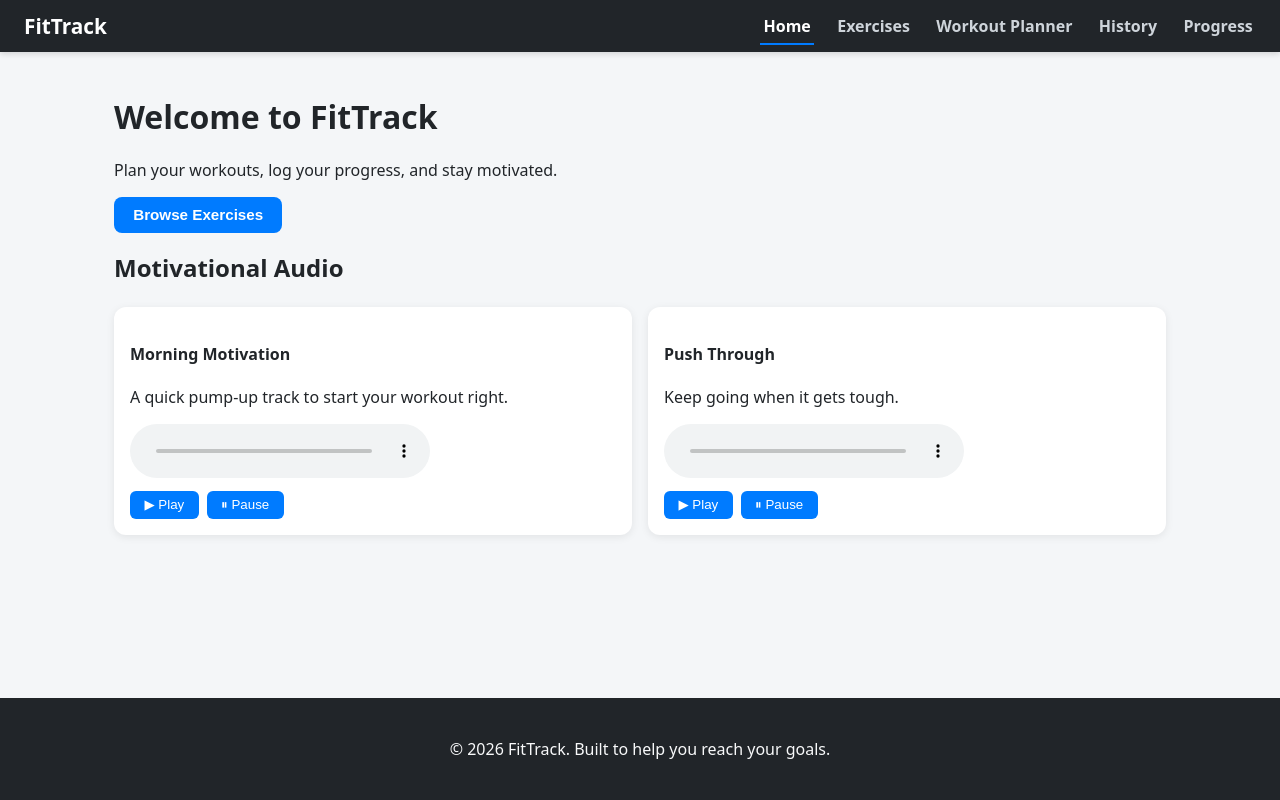
Test case: Navigation Integration › navigates to the workout planner page
Click the link "Workout Planner" at (1004, 26), box 936,15 -> 1072,37
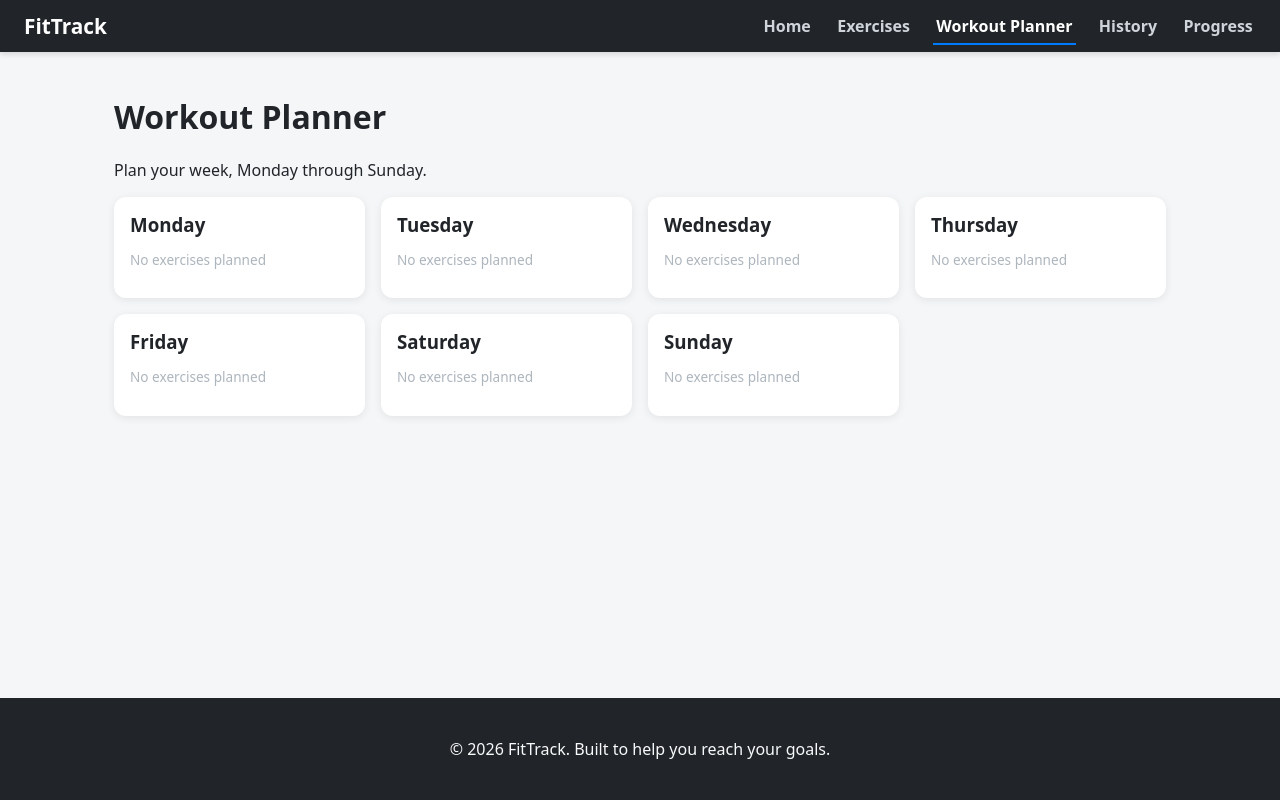
Check: the text "Plan your week, Monday through Sunday." is shown, box 114,159 -> 427,181
